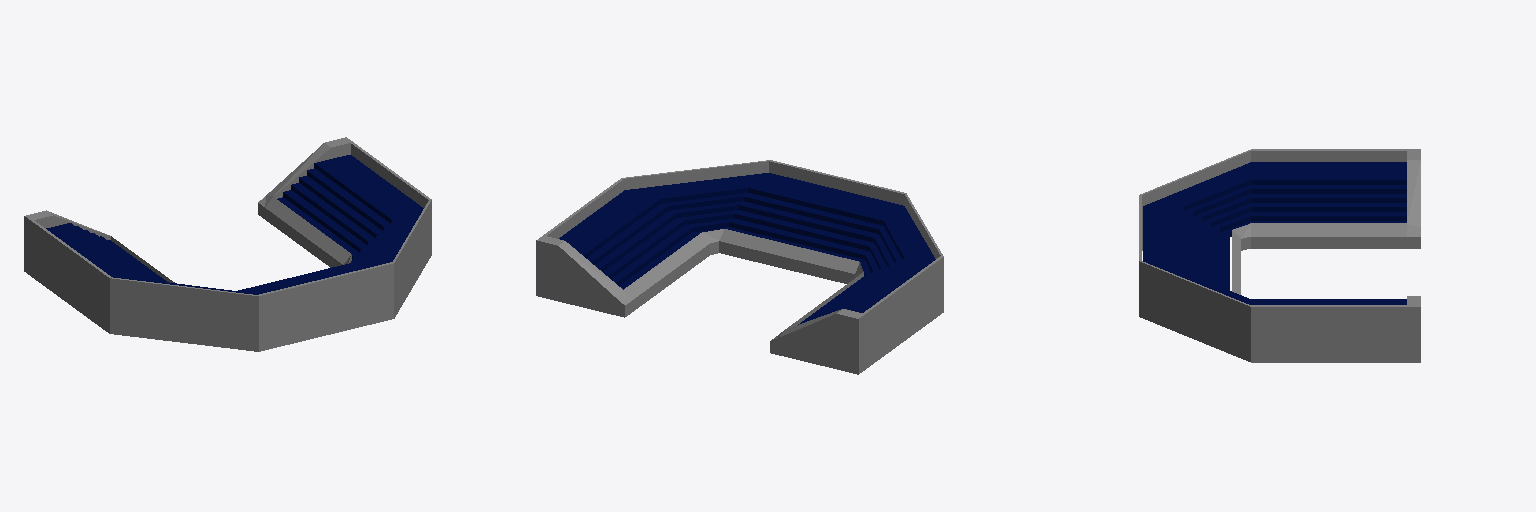
The model's file is StadiumSits3.obj.
3 renders of one model, left to right at view 1: azimuth 30°, elevation 25°; view 2: azimuth 150°, elevation 25°; view 3: azimuth 270°, elevation 25°, orthographic.
Parts seen in each view (by area): view 1: StadiumSits3_Cube.001; view 2: StadiumSits3_Cube.001; view 3: StadiumSits3_Cube.001.
Part boxes in pixels (left/top/right/bottom): StadiumSits3_Cube.001: left=24, top=137, right=431, bottom=351; StadiumSits3_Cube.001: left=536, top=160, right=943, bottom=374; StadiumSits3_Cube.001: left=1139, top=149, right=1420, bottom=362.
Bounding box in the file's own units: 44.04 × 7.28 × 33.37.